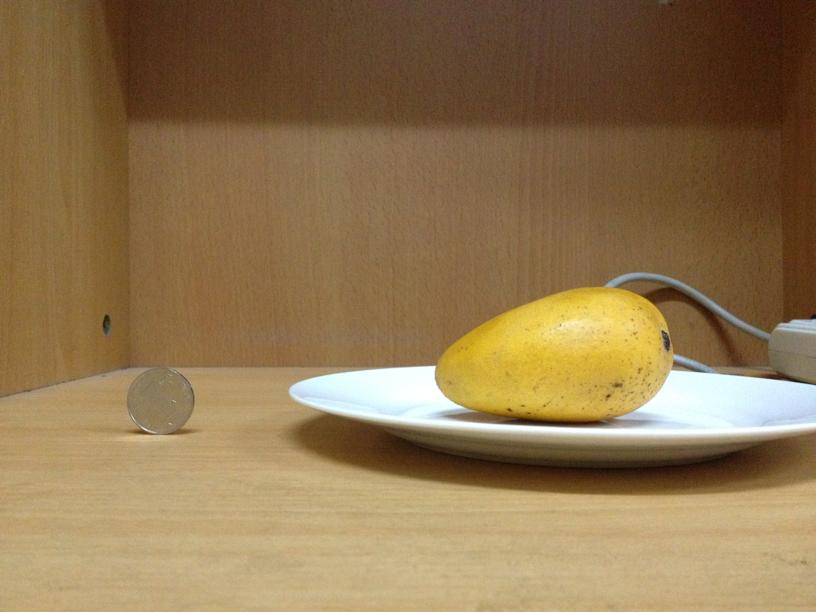coin: (125, 368, 194, 434)
mango: (428, 287, 675, 422)
